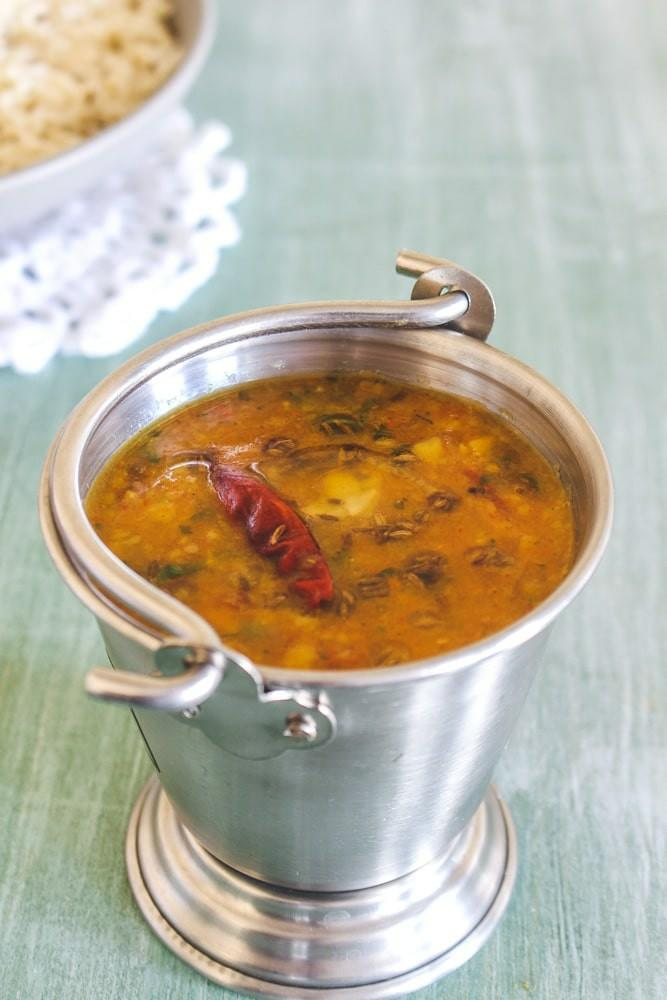Dal: (87, 364, 567, 669)
